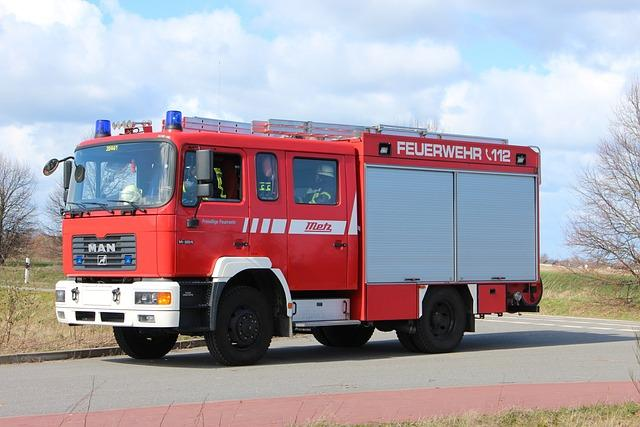vehicle: (44, 110, 543, 366)
